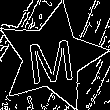M_N: (25, 29, 78, 85)
